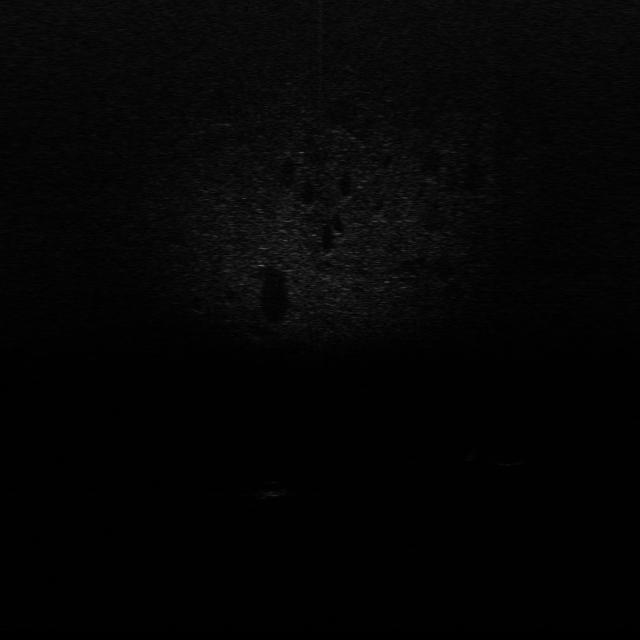ball: (252, 482, 289, 502)
human body: (463, 445, 536, 470)
